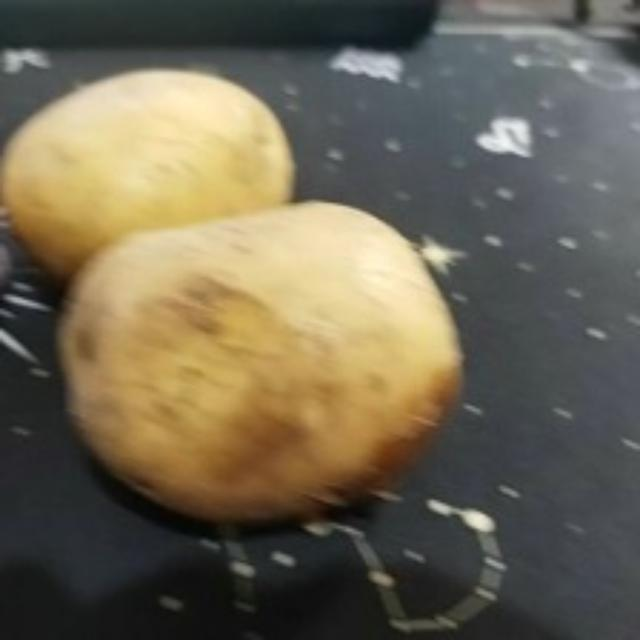Damaged potato: (52, 205, 472, 550)
Potato: (0, 68, 298, 296)
